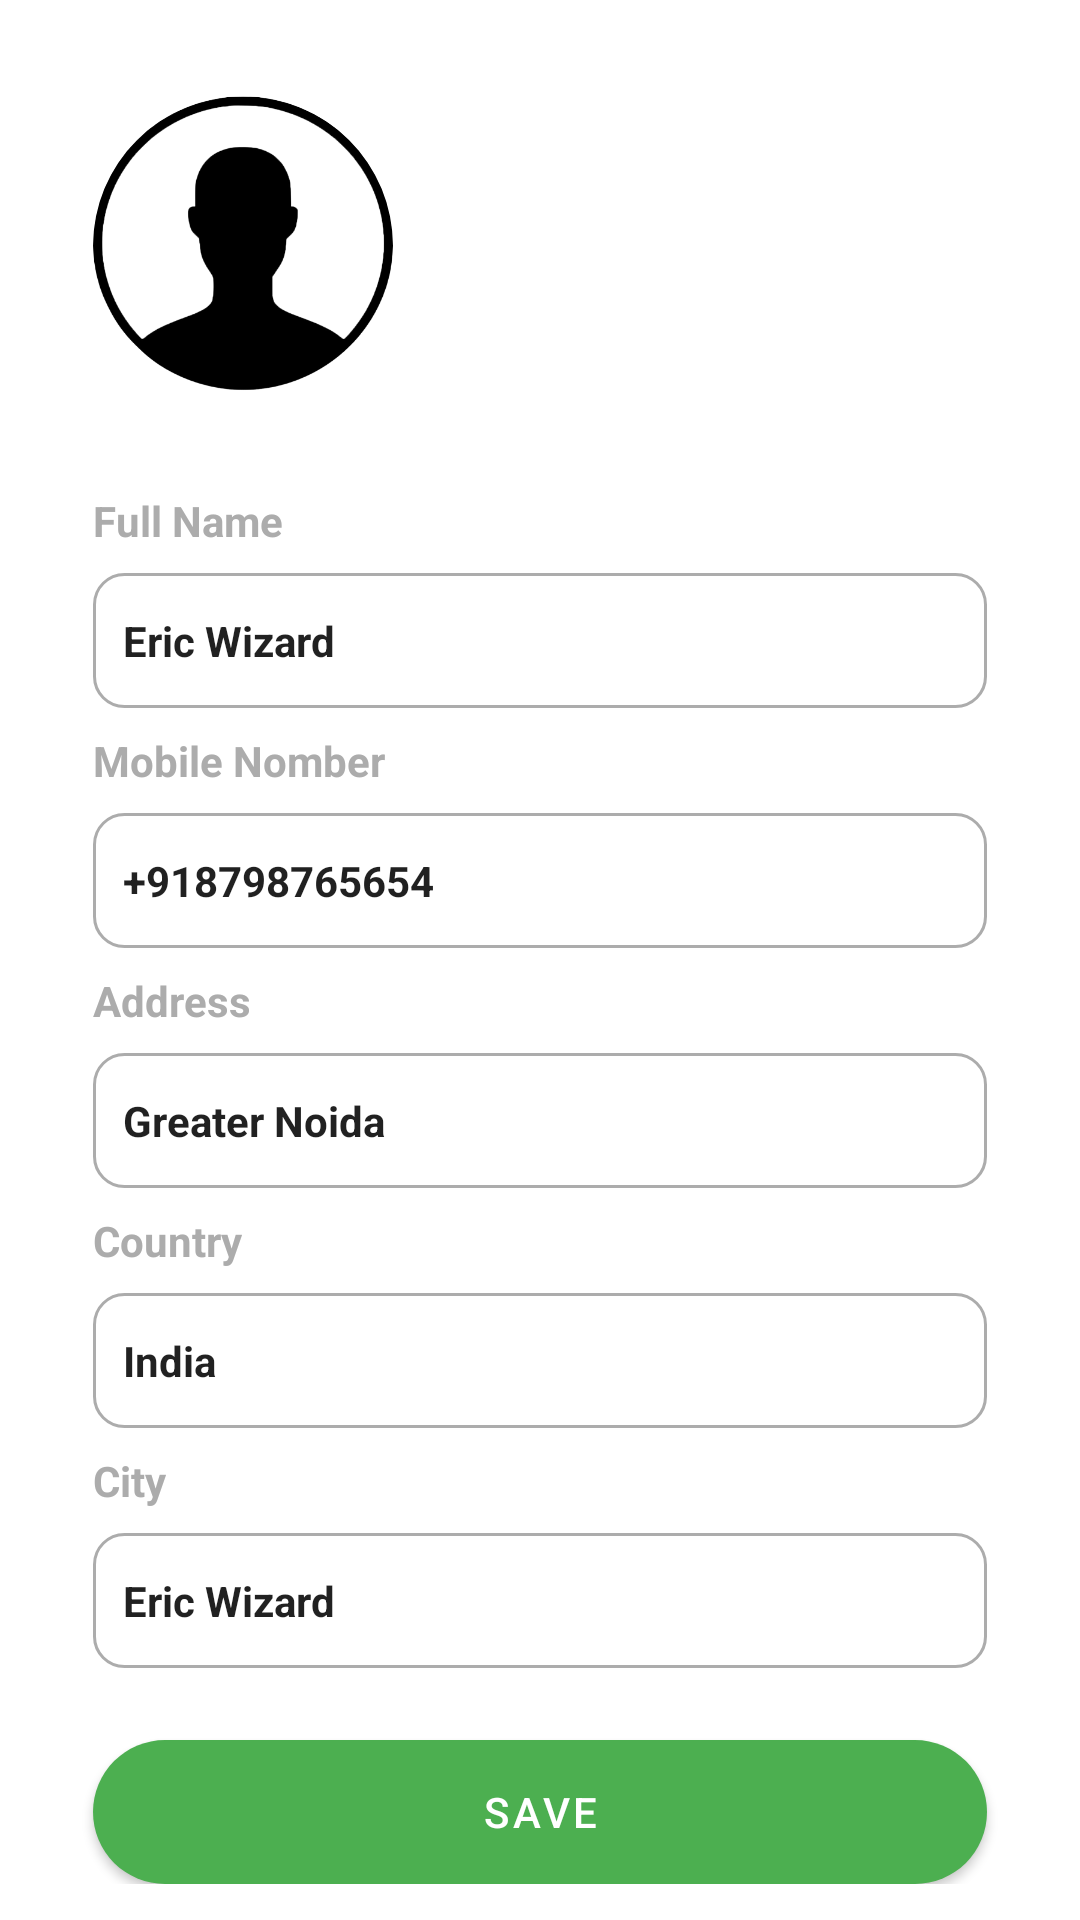

Where icons sit on this 1080×1920 app screen, as (x1, y1, x2, y2):
profile pic: (93, 96, 393, 390)
